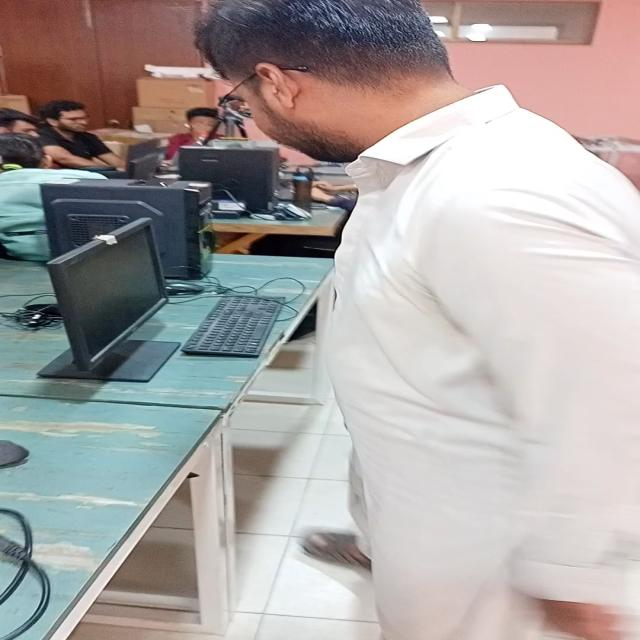dress: (327, 83, 640, 640)
